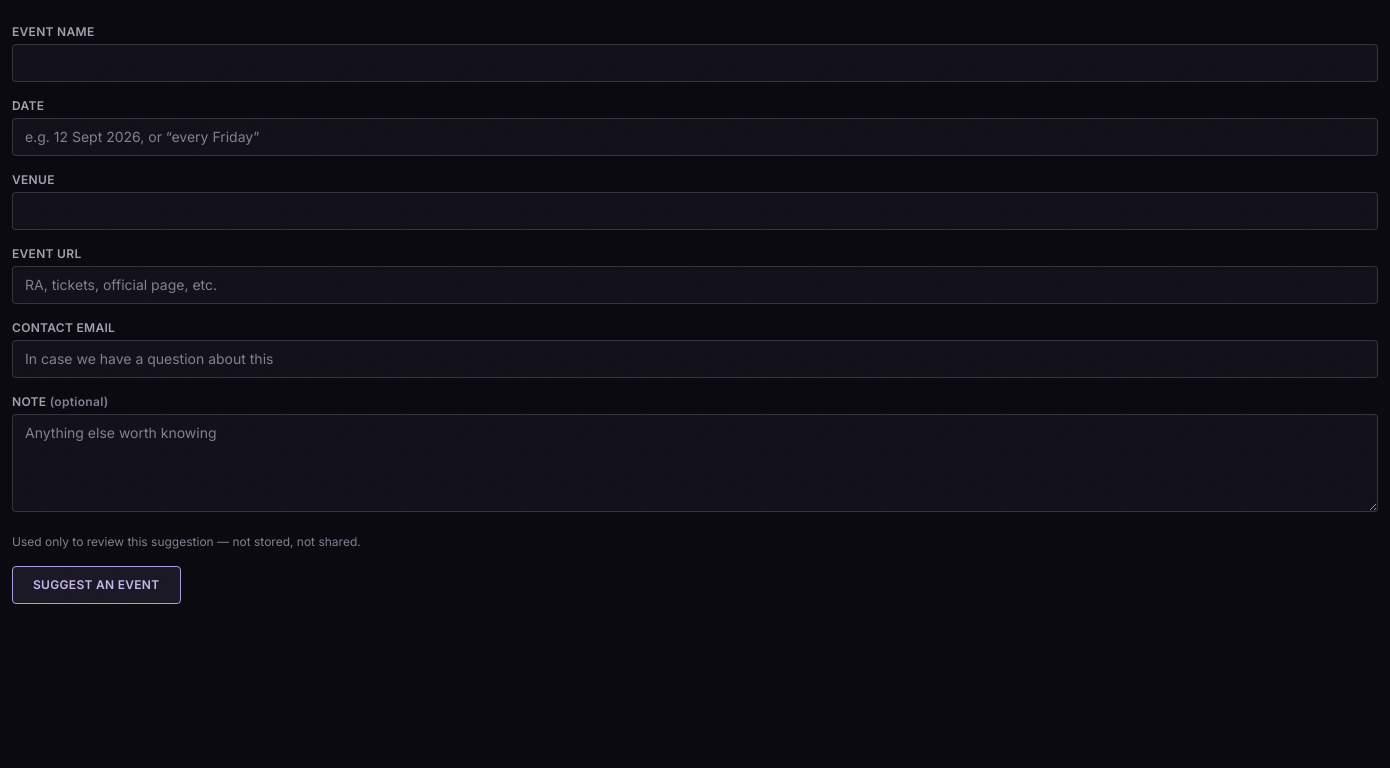
Test: SuggestEventForm › does not submit when required fields are empty
The image size is (1390, 768).
Click the button "Suggest an event". click: [96, 585]
box: [12,566,180,604]
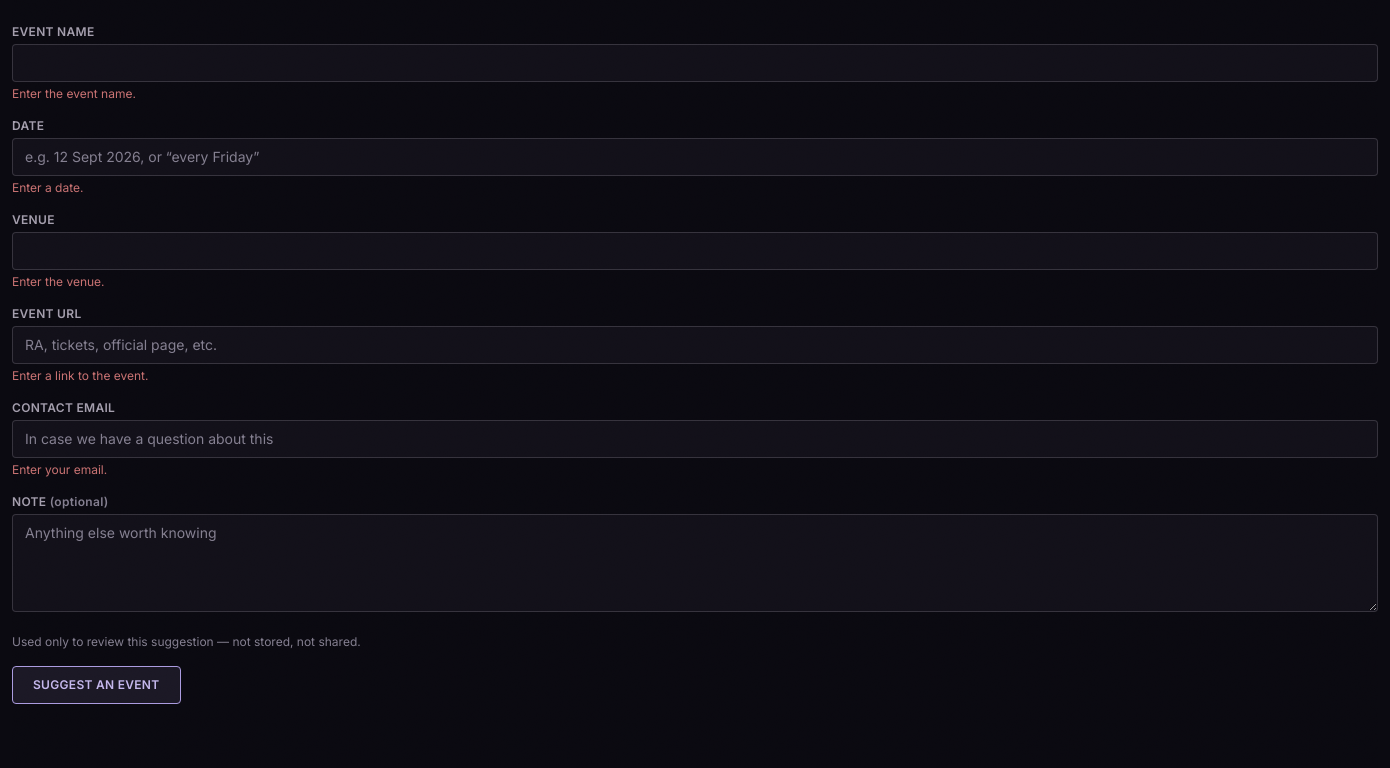
Result: the text "Enter the event name." is shown at [12,86,136,101]
